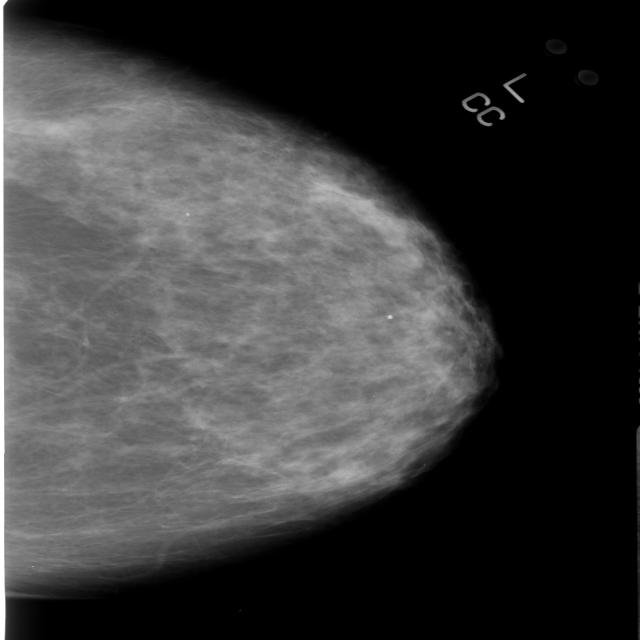cancer: (293, 160, 438, 260), (289, 428, 394, 499)
